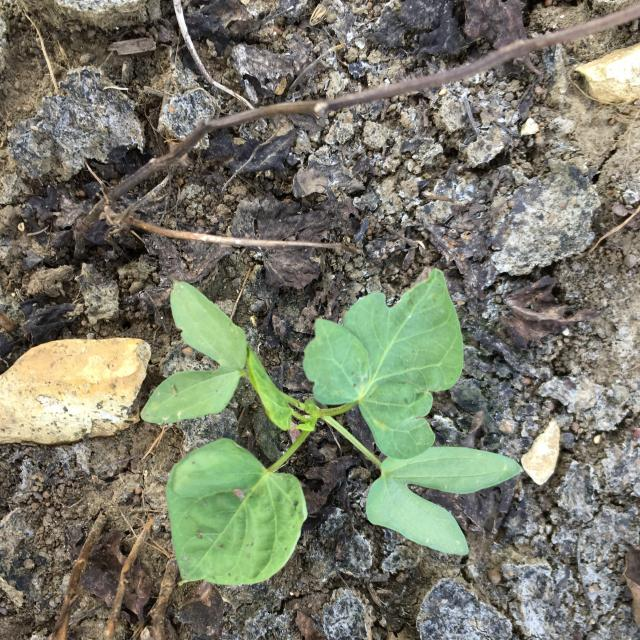MorningGlory: (140, 268, 522, 586)
